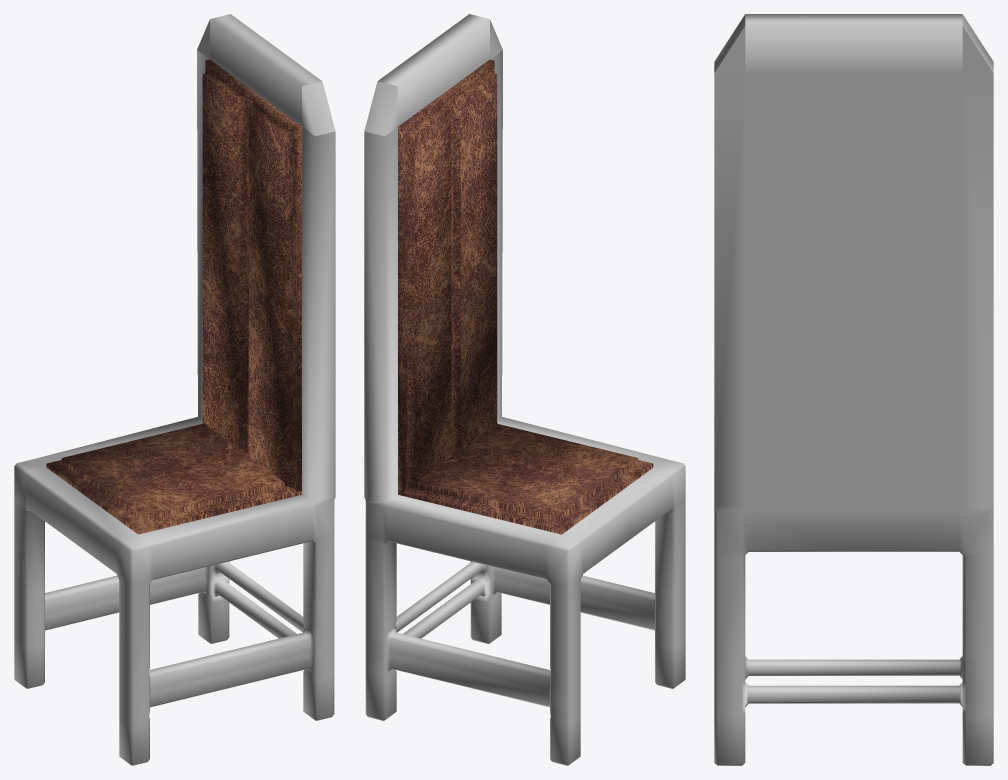
File: chair leather.fbx
The picture shows the model from 3 angles, left to right: view 1: azimuth 30°, elevation 25°; view 2: azimuth 150°, elevation 25°; view 3: azimuth 270°, elevation 25°; orthographic projection. The views are drawn at different scales.
Parts seen in each view (by area): view 1: Cube.001; view 2: Cube.001; view 3: Cube.001.
Part boxes in pixels (left/top/right/bottom): Cube.001: left=14, top=14, right=335, bottom=765; Cube.001: left=364, top=14, right=685, bottom=765; Cube.001: left=714, top=14, right=993, bottom=765.
Bounding box in the file's own units: 200 × 585 × 200.
